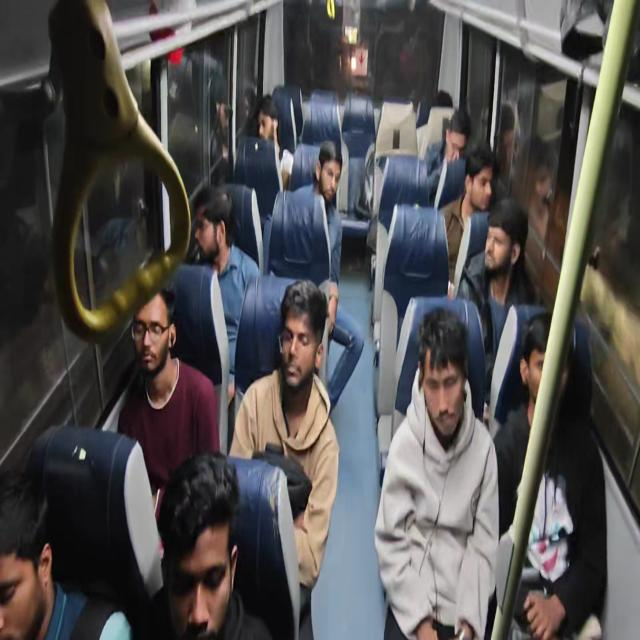person: (374, 306, 500, 638), (228, 278, 340, 637), (492, 312, 607, 638), (144, 451, 272, 638), (0, 468, 132, 638), (117, 286, 220, 500), (456, 197, 538, 397), (192, 185, 260, 398), (293, 140, 343, 332), (438, 140, 498, 296), (247, 93, 293, 191), (424, 108, 470, 204), (524, 140, 556, 276), (208, 74, 233, 182), (492, 102, 518, 200)
